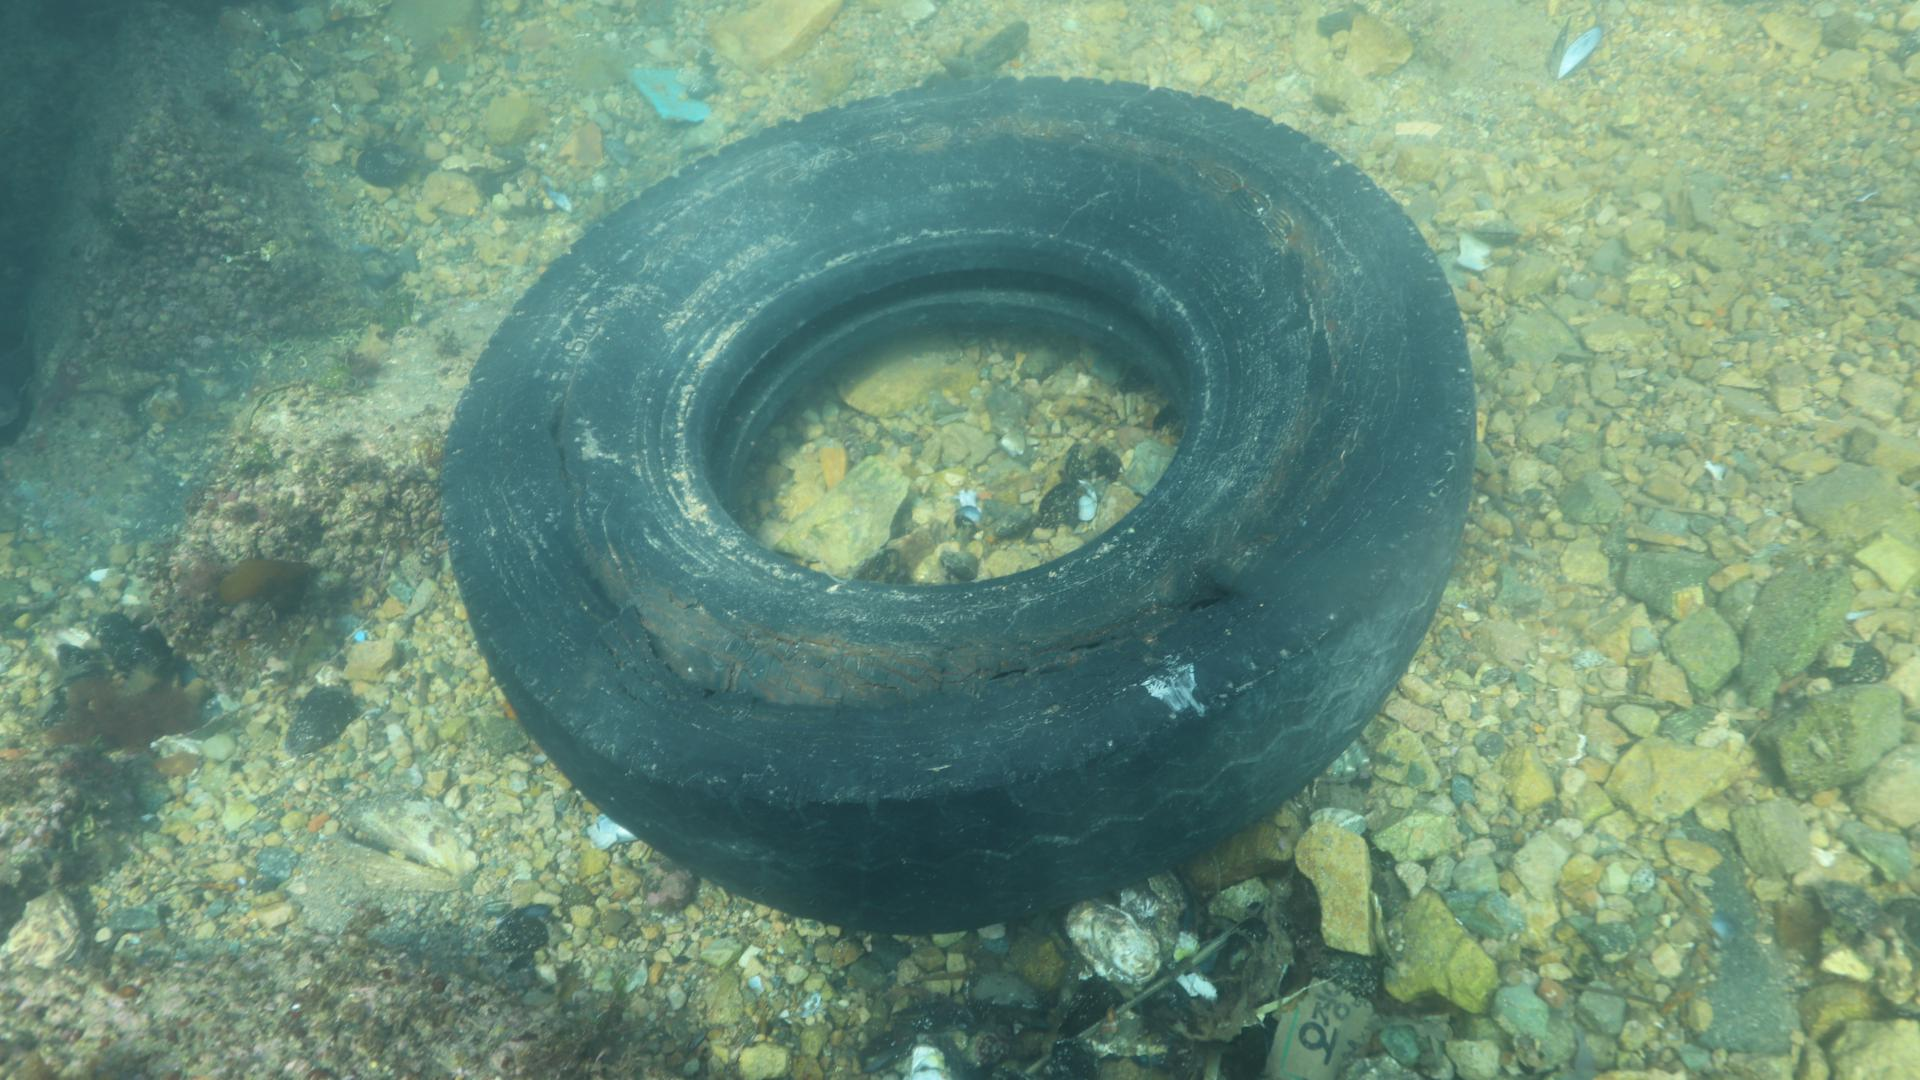tire: (431, 71, 1478, 934)
